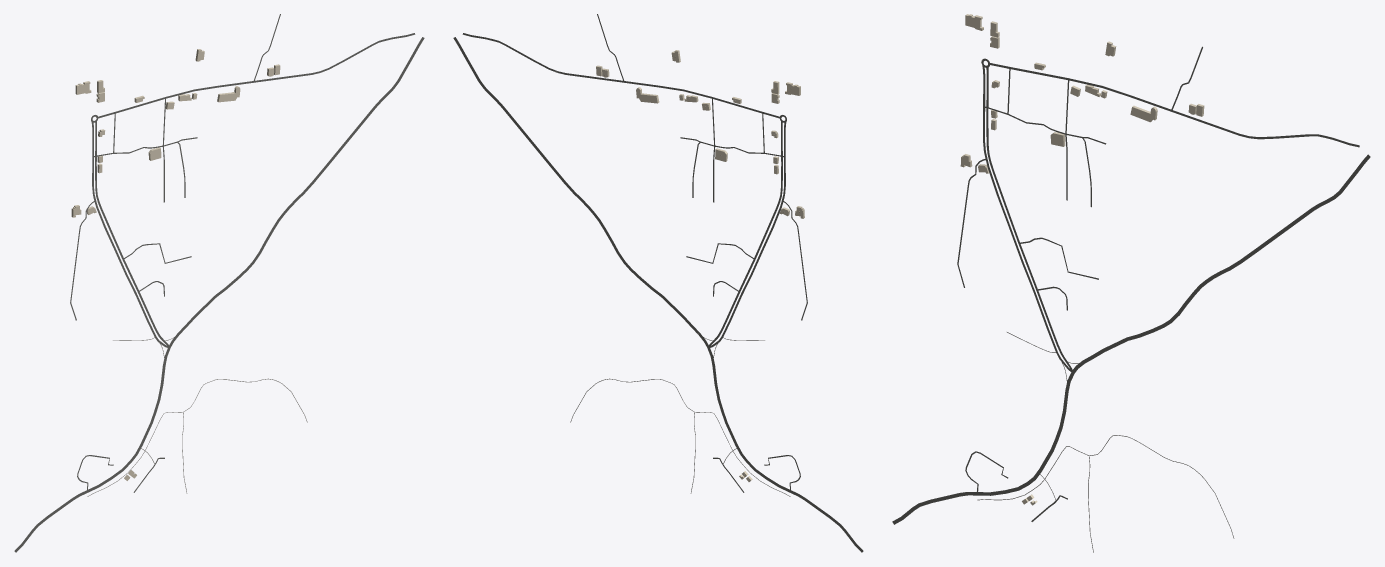
The model's file is historic-palestine-11_25_3526_3196.glb.
3 views of the same model, side by side, from view 1: azimuth 30°, elevation 25°; view 2: azimuth 150°, elevation 25°; view 3: azimuth 330°, elevation 25° (orthographic). The views are drawn at different scales.
Parts seen in each view (by area): view 1: Road Selwad.001, Road Dair Jreer, Road .008, Road .009; view 2: Road Selwad.001, Road Dair Jreer, Road .008, Road .009; view 3: Road Selwad.001, Road Dair Jreer, Road .009, Road .008.
Boxes of the visible parts, x1,y1,x2,y2 form: Road Selwad.001: (14, 37, 424, 552); Road Dair Jreer: (97, 33, 415, 118); Road .008: (91, 121, 167, 347); Road .009: (95, 121, 169, 347); Road Selwad.001: (453, 37, 863, 552); Road Dair Jreer: (462, 33, 780, 118); Road .008: (709, 121, 786, 347); Road .009: (709, 121, 782, 346); Road Selwad.001: (892, 154, 1370, 524); Road Dair Jreer: (989, 62, 1359, 147); Road .009: (986, 67, 1072, 370); Road .008: (982, 65, 1072, 371).
Size of the model in its own units: 1158 by 1279 by 9.09.
